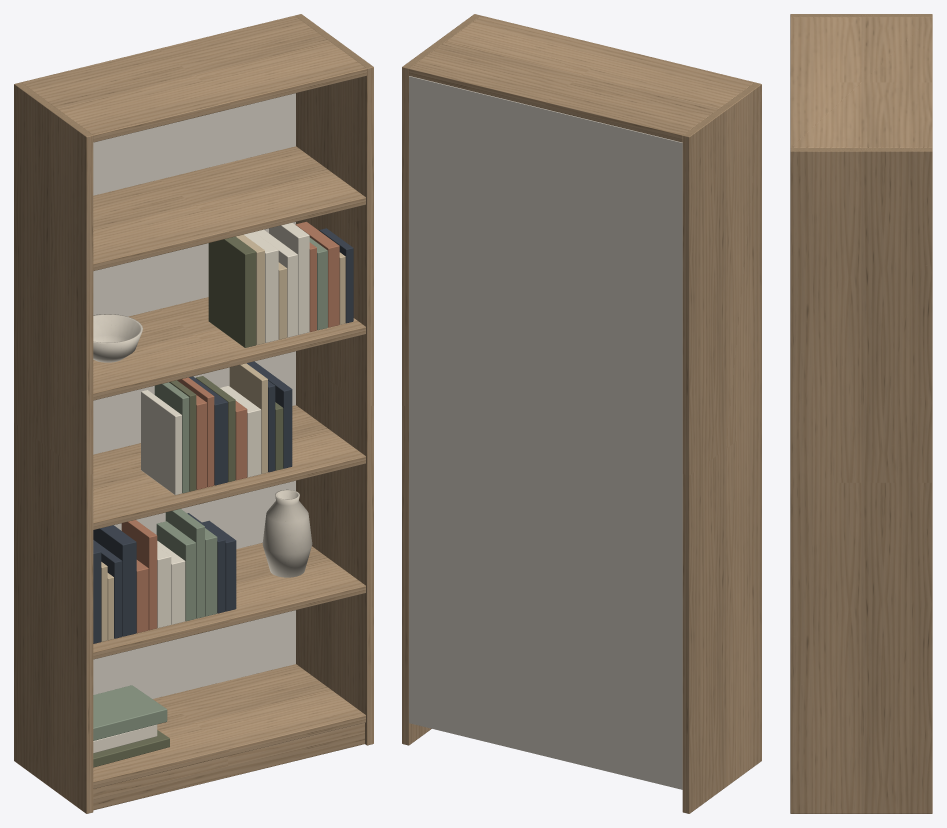
3 views of the same model, side by side, from view 1: azimuth 30°, elevation 25°; view 2: azimuth 150°, elevation 25°; view 3: azimuth 270°, elevation 25° (orthographic). The views are drawn at different scales.
Visible parts, largest first — view 1: side_left, back_panel, side_right, top, shelf_4, shelf_0, shelf_3, shelf_2, shelf_1, plinth, book_7_0, book_11_0 (+37 smaller); view 2: back_panel, side_left, top, side_right; view 3: side_right, top, side_left.
Part boxes in pixels (left/top/right/bottom): side_left: left=14, top=82, right=93, bottom=813; back_panel: left=93, top=93, right=295, bottom=698; side_right: left=295, top=14, right=373, bottom=745; top: left=21, top=15, right=366, bottom=142; shelf_4: left=93, top=146, right=365, bottom=270; shelf_0: left=93, top=664, right=365, bottom=788; shelf_3: left=93, top=297, right=365, bottom=400; shelf_2: left=93, top=405, right=365, bottom=529; shelf_1: left=93, top=543, right=365, bottom=659; plinth: left=93, top=723, right=364, bottom=810; book_7_0: left=208, top=236, right=256, bottom=347; book_11_0: left=141, top=390, right=181, bottom=495; back_panel: left=409, top=76, right=682, bottom=789; side_left: left=682, top=82, right=761, bottom=813; top: left=409, top=15, right=754, bottom=142; side_right: left=402, top=14, right=480, bottom=745; side_right: left=790, top=148, right=932, bottom=813; top: left=790, top=17, right=932, bottom=147; side_left: left=790, top=14, right=932, bottom=17.
Bounding box in the file's own units: 0.8 × 1.8 × 0.35.
Materials: 10 (3 with a texture image).
